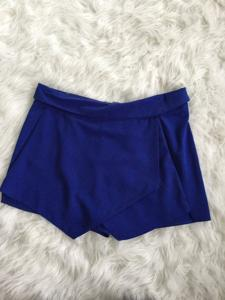C_skirt: (2, 79, 218, 241)
